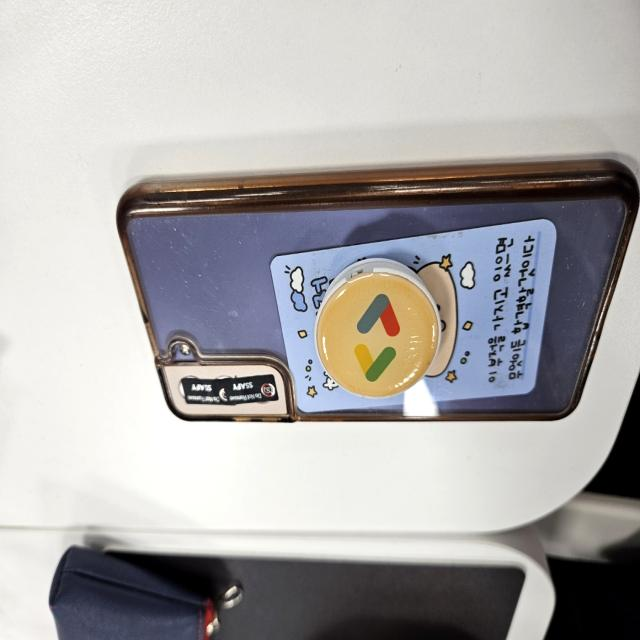phone: (116, 153, 640, 421)
sticker: (228, 376, 276, 406), (182, 379, 231, 405)
